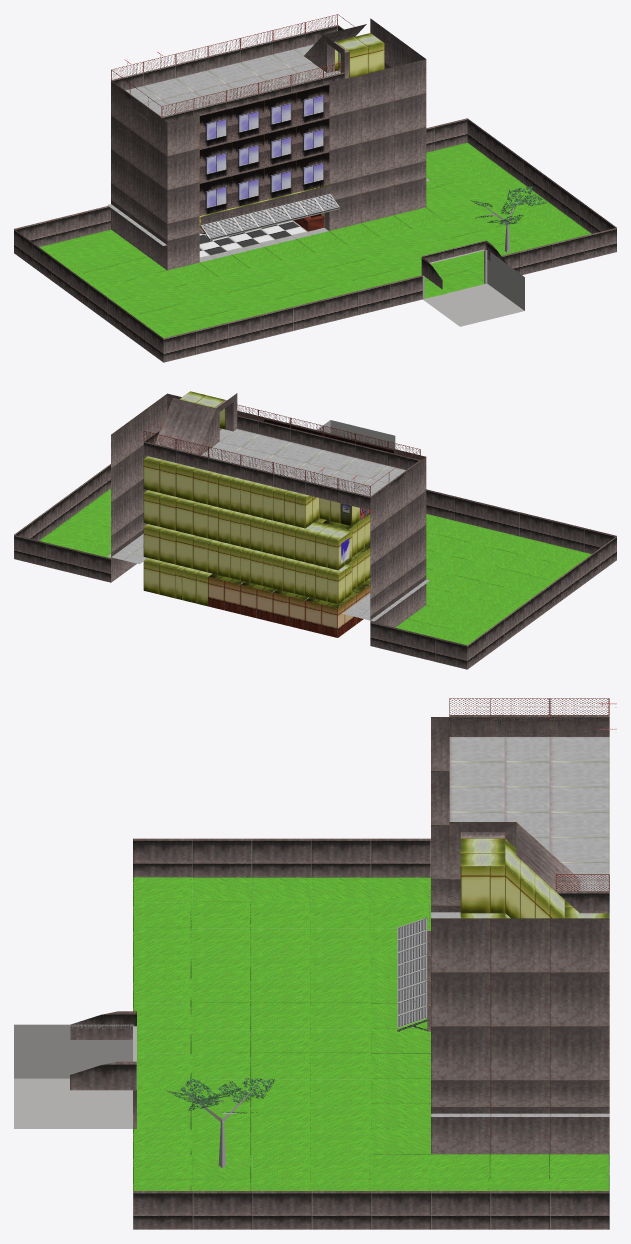
File: cottage.obj
The picture shows the model from 3 angles, top to bottom: view 1: azimuth 30°, elevation 25°; view 2: azimuth 150°, elevation 25°; view 3: azimuth 270°, elevation 25°; orthographic projection. The views are drawn at different scales.
Visible parts, largest first — view 1: M000, M004; view 2: M000, M004, M001, M002, M003; view 3: M000, M004, M003, M001.
Boxes of the visible parts, x1,y1,x2,y2 form: M000: [14, 18, 616, 362]; M004: [111, 14, 384, 130]; M000: [14, 393, 616, 669]; M004: [143, 391, 420, 510]; M001: [107, 524, 429, 621]; M002: [143, 490, 370, 570]; M003: [143, 398, 370, 528]; M000: [14, 717, 609, 1229]; M004: [449, 698, 616, 913]; M003: [460, 839, 609, 918]; M001: [431, 912, 609, 1116].
Bounding box in the file's own units: 14 × 5.06 × 10.12.
